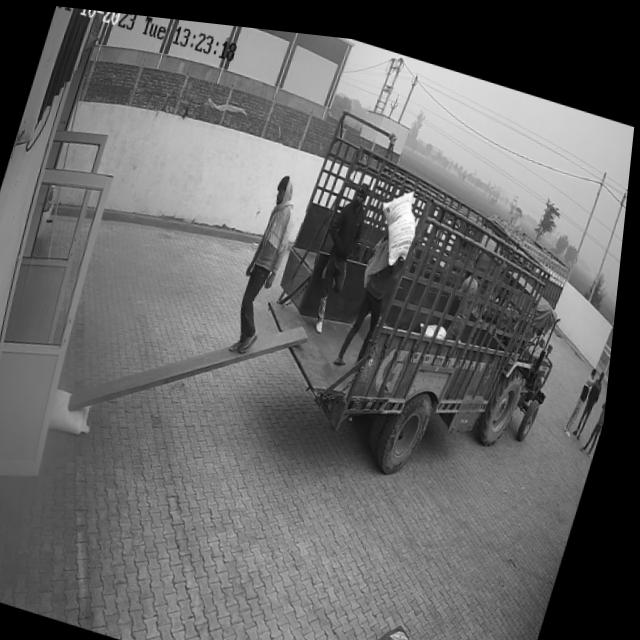sack: (369, 171, 431, 262), (54, 385, 106, 436)
